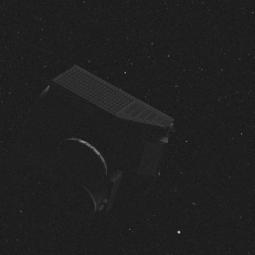cheops: (23, 65, 167, 225)
